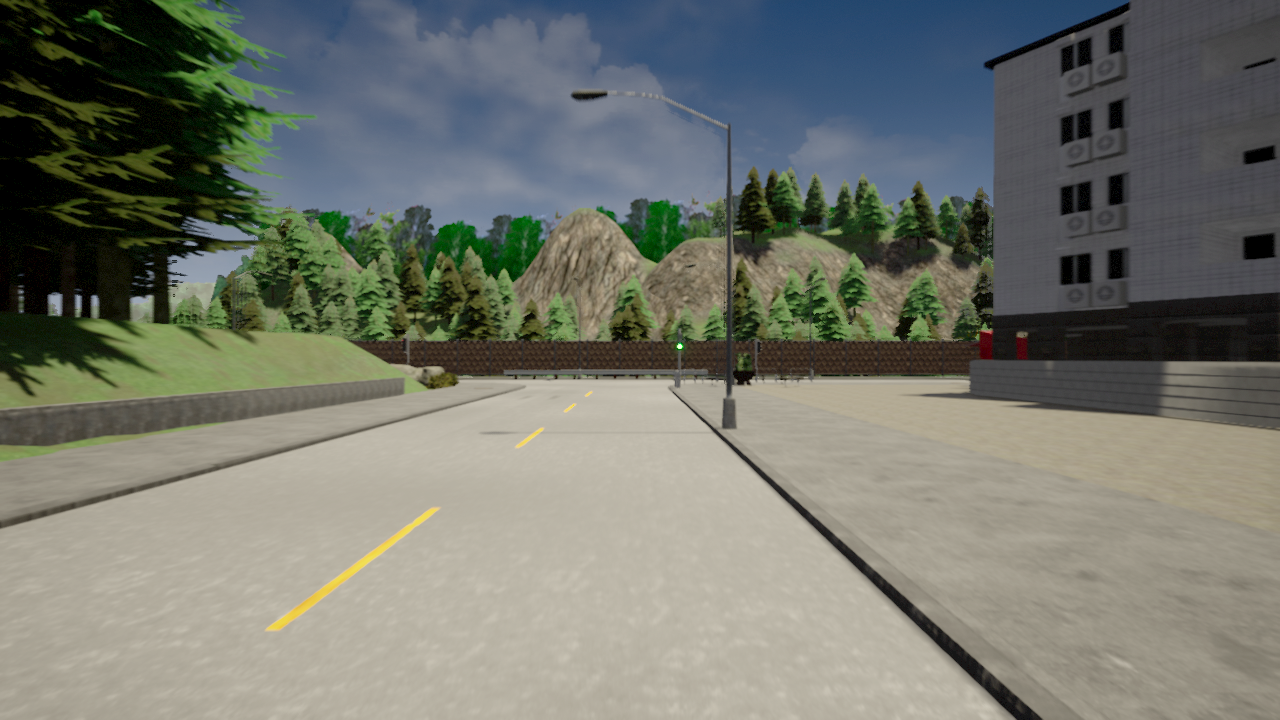green: (676, 333, 684, 350)
